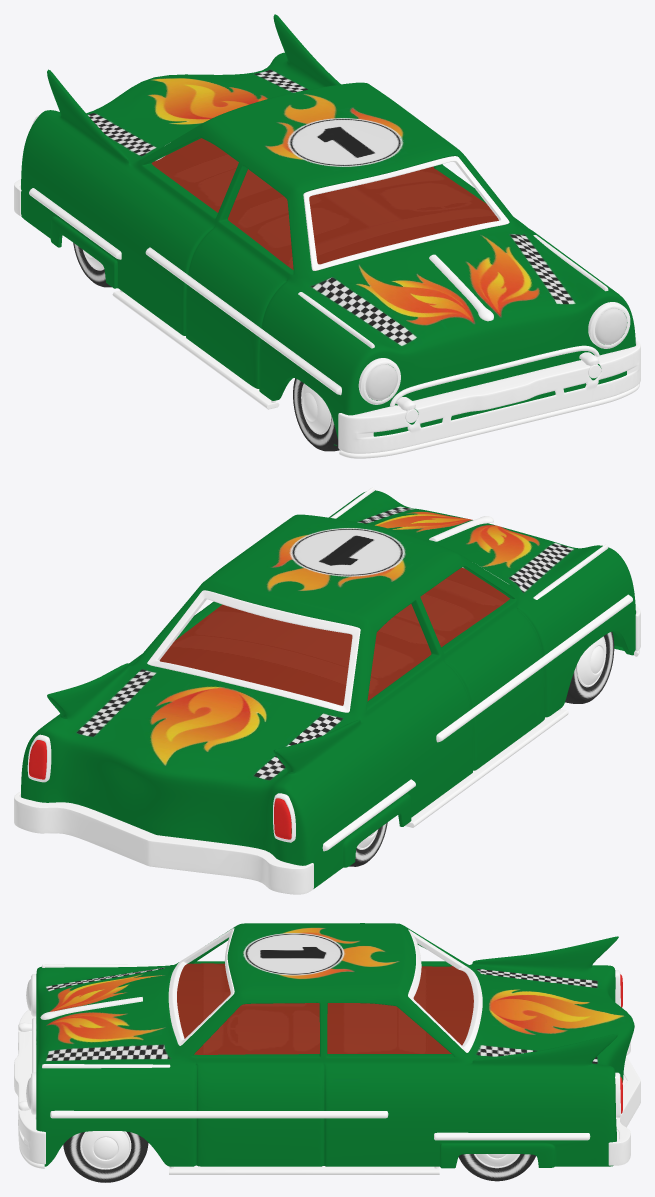
The model's file is car.glb.
3 renders of one model, top to bottom at view 1: azimuth 30°, elevation 25°; view 2: azimuth 150°, elevation 25°; view 3: azimuth 270°, elevation 25°, orthographic. The views are drawn at different scales.
Visible parts, largest first — view 1: ToyCar; view 2: ToyCar; view 3: ToyCar.
Boxes of the visible parts, bbox=[...] form: ToyCar: bbox=[14, 14, 640, 458]; ToyCar: bbox=[14, 487, 640, 894]; ToyCar: bbox=[14, 923, 640, 1182].
Size of the model in its own units: 0.0187 by 0.0116 by 0.0384.
Materials: 1 (1 with a texture image).
